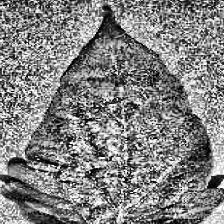spider mites: (1, 12, 224, 224)
